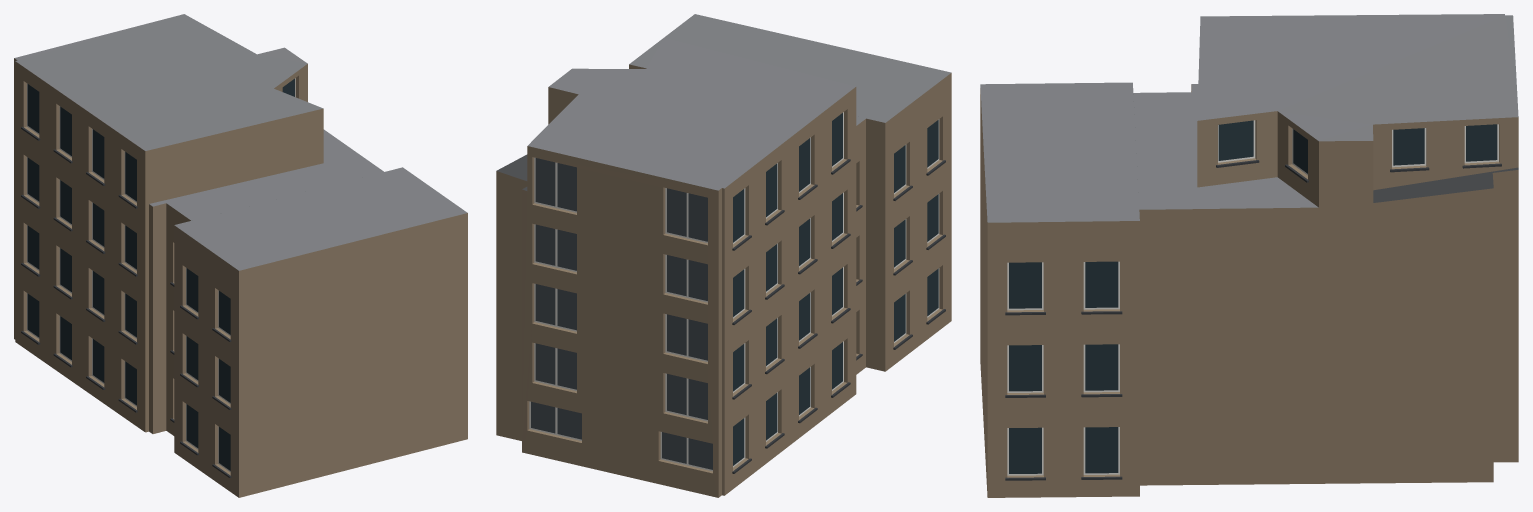
Rendered from recipe-large-haarlemmerweg-89-097106.glb.
The picture shows the model from 3 angles, left to right: view 1: azimuth 30°, elevation 25°; view 2: azimuth 150°, elevation 25°; view 3: azimuth 270°, elevation 25°; orthographic projection. The views are drawn at different scales.
Visible parts, largest first — view 1: haarlemmerweg-89-097106; view 2: haarlemmerweg-89-097106; view 3: haarlemmerweg-89-097106.
Boxes of the visible parts, x1,y1,x2,y2 form: haarlemmerweg-89-097106: [14, 14, 467, 497]; haarlemmerweg-89-097106: [496, 14, 951, 497]; haarlemmerweg-89-097106: [980, 14, 1518, 497].
Bounding box in the file's own units: 13.12 × 14.53 × 20.69.
